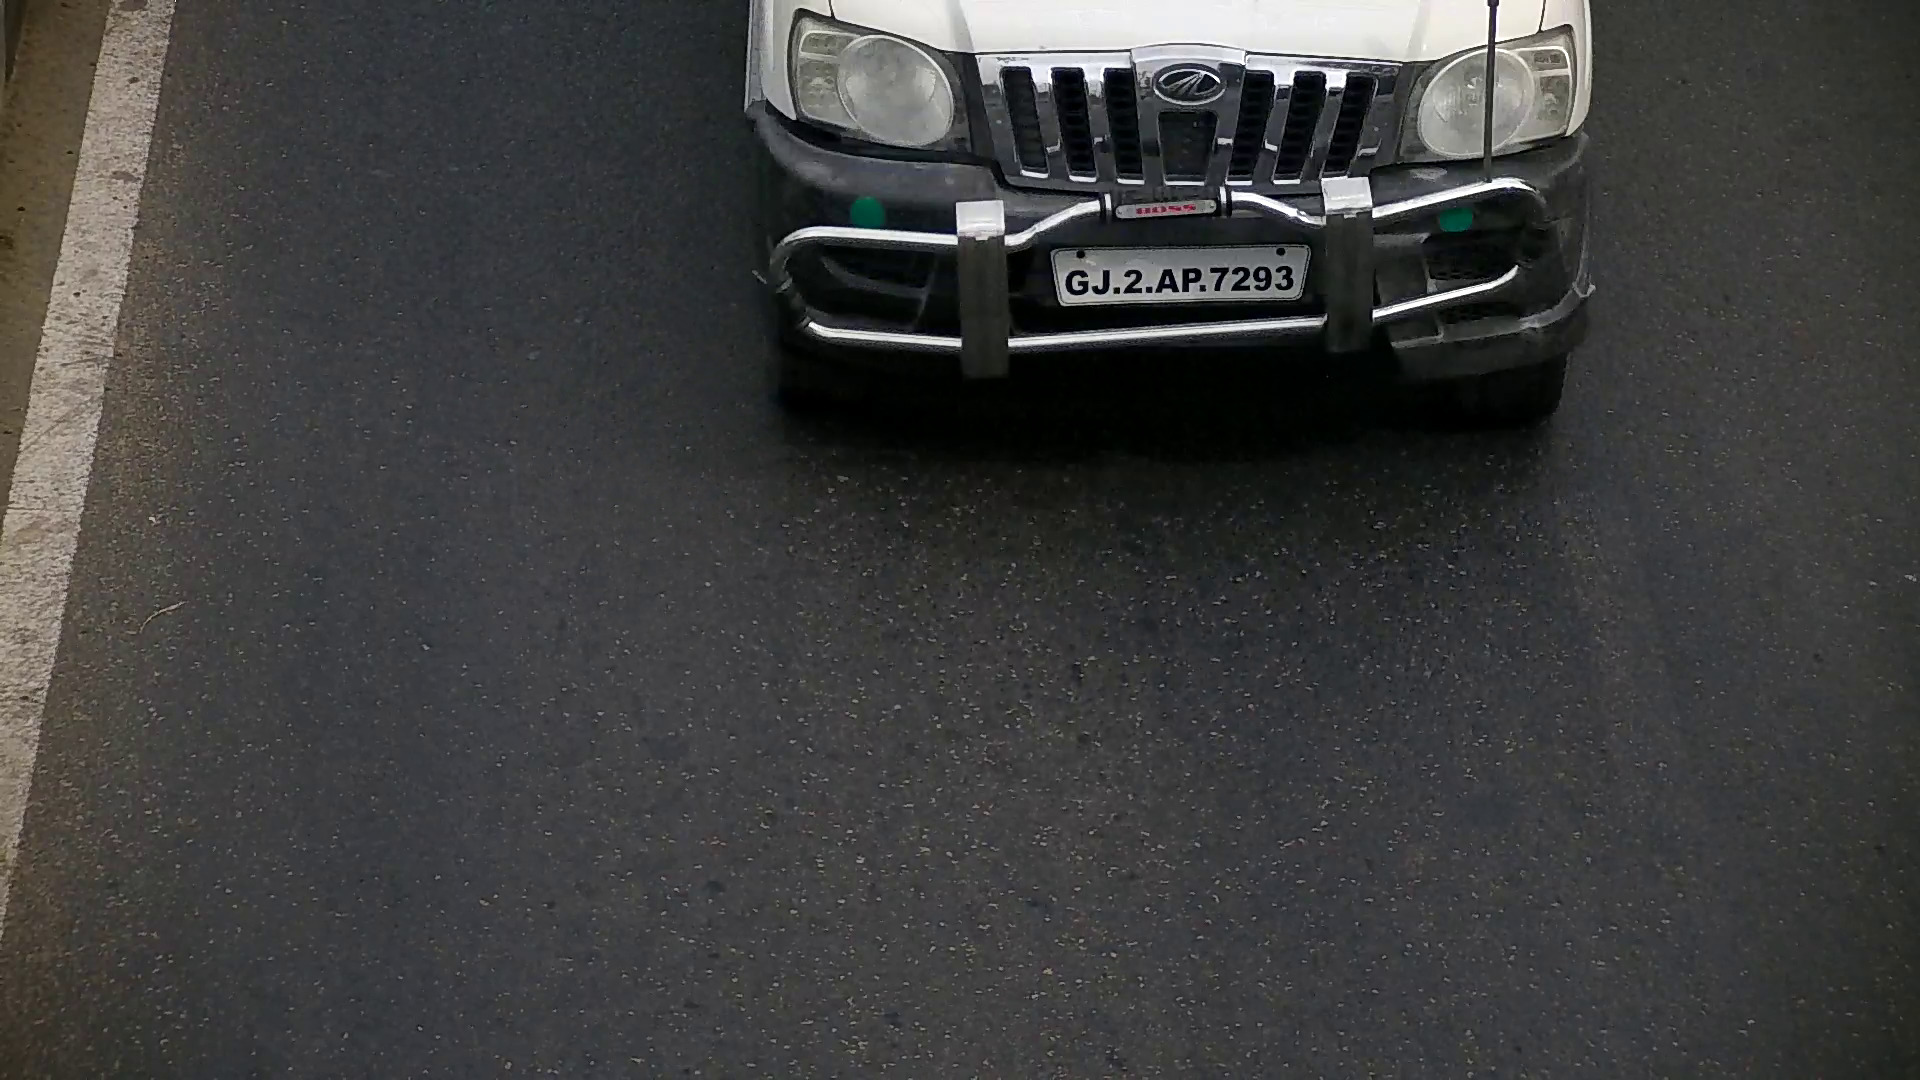numberplate: (1038, 245, 1314, 310)
